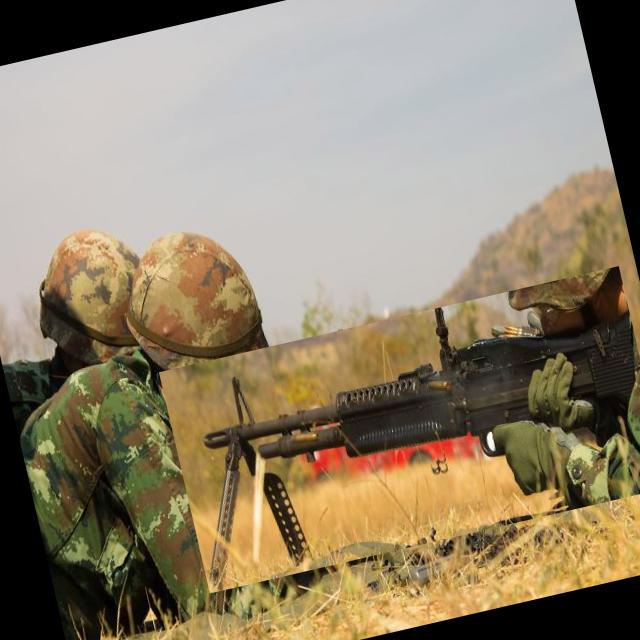Gun: (200, 308, 634, 592)
